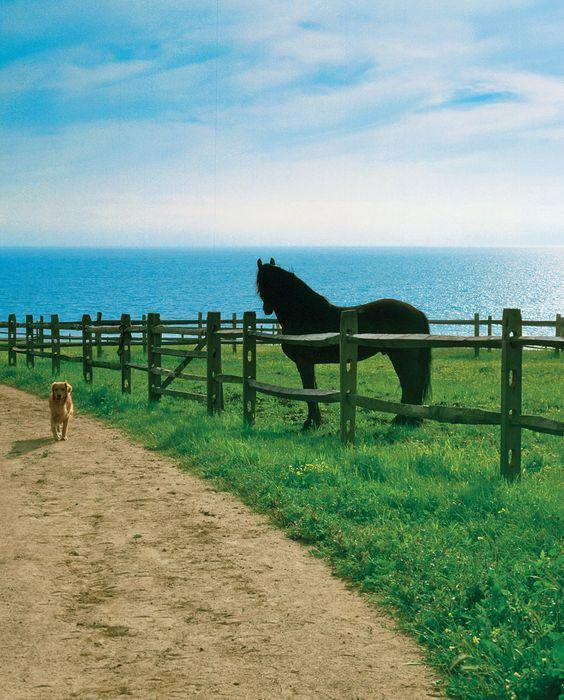horse: (255, 256, 432, 431)
